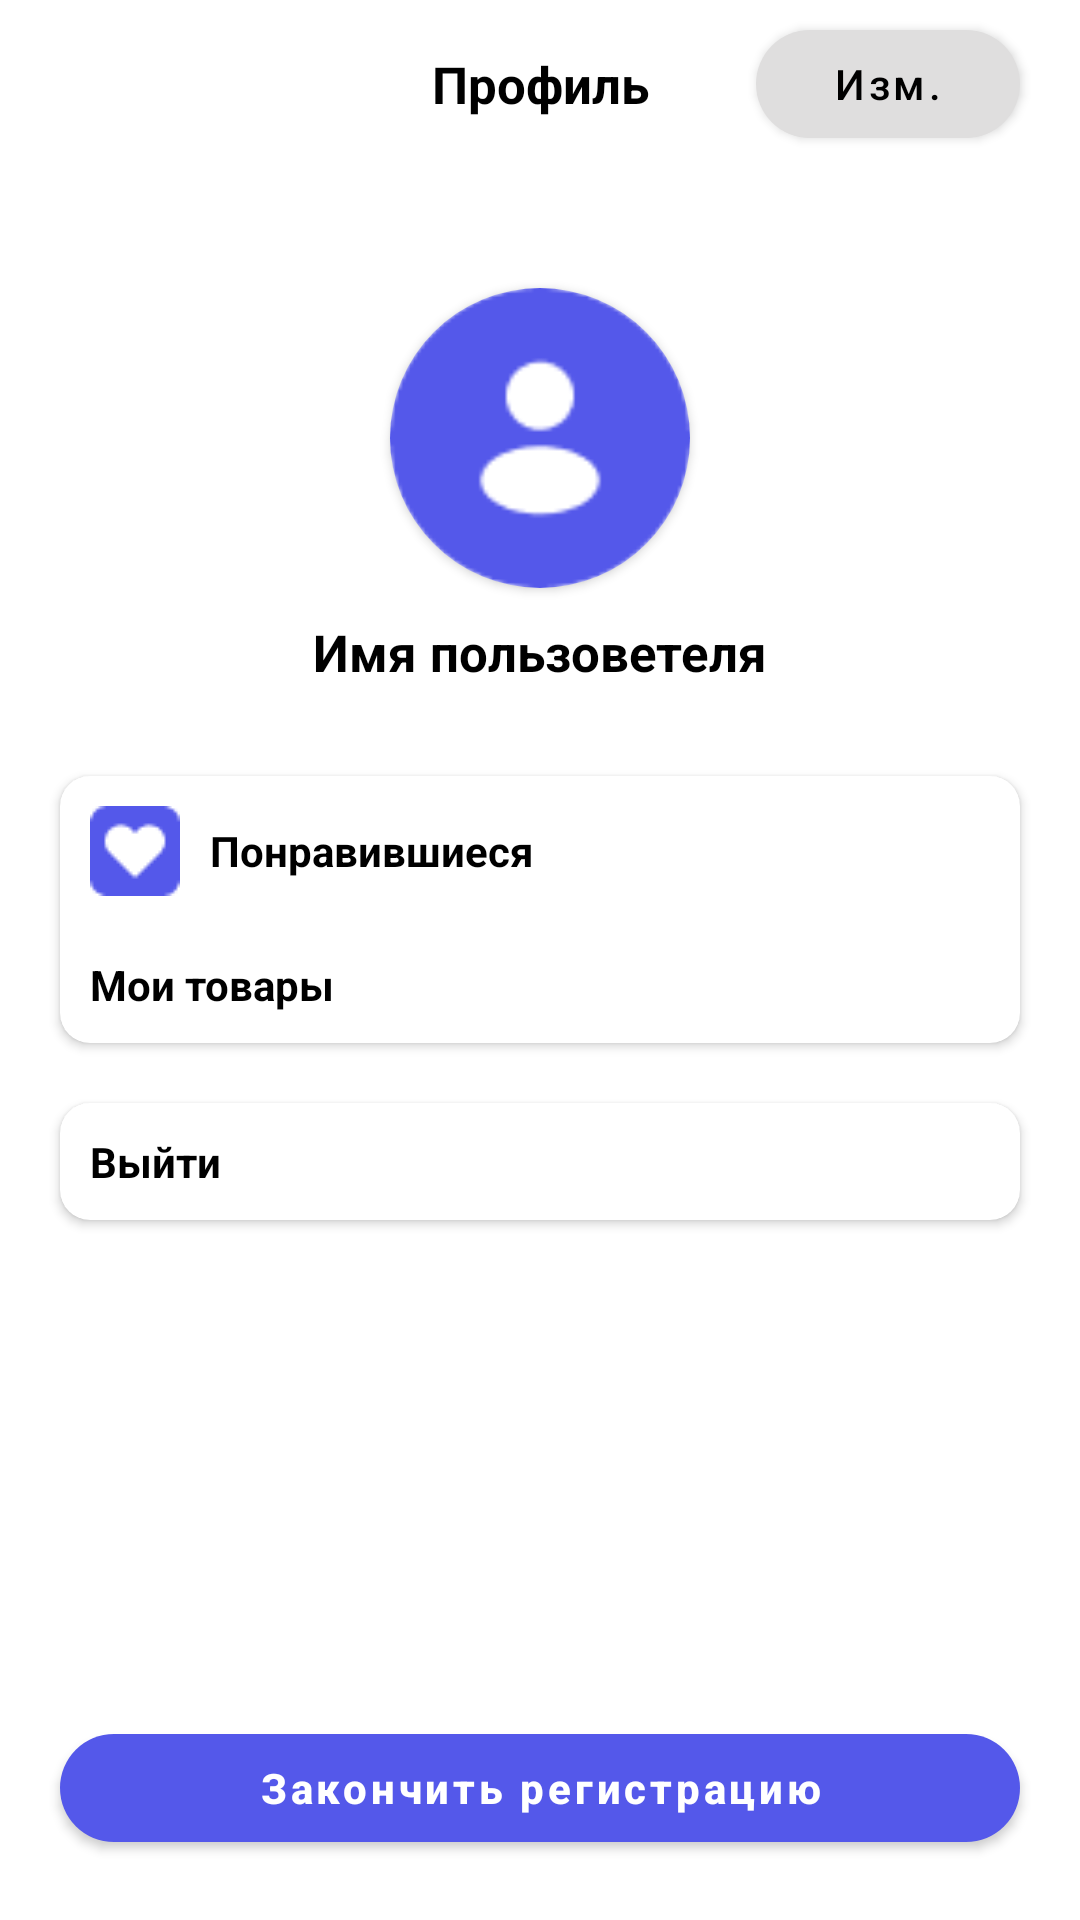

Point at icon controls on the screen. Image size 1080w x 1920h, points as point (x, y).
profile: point (540, 438)
